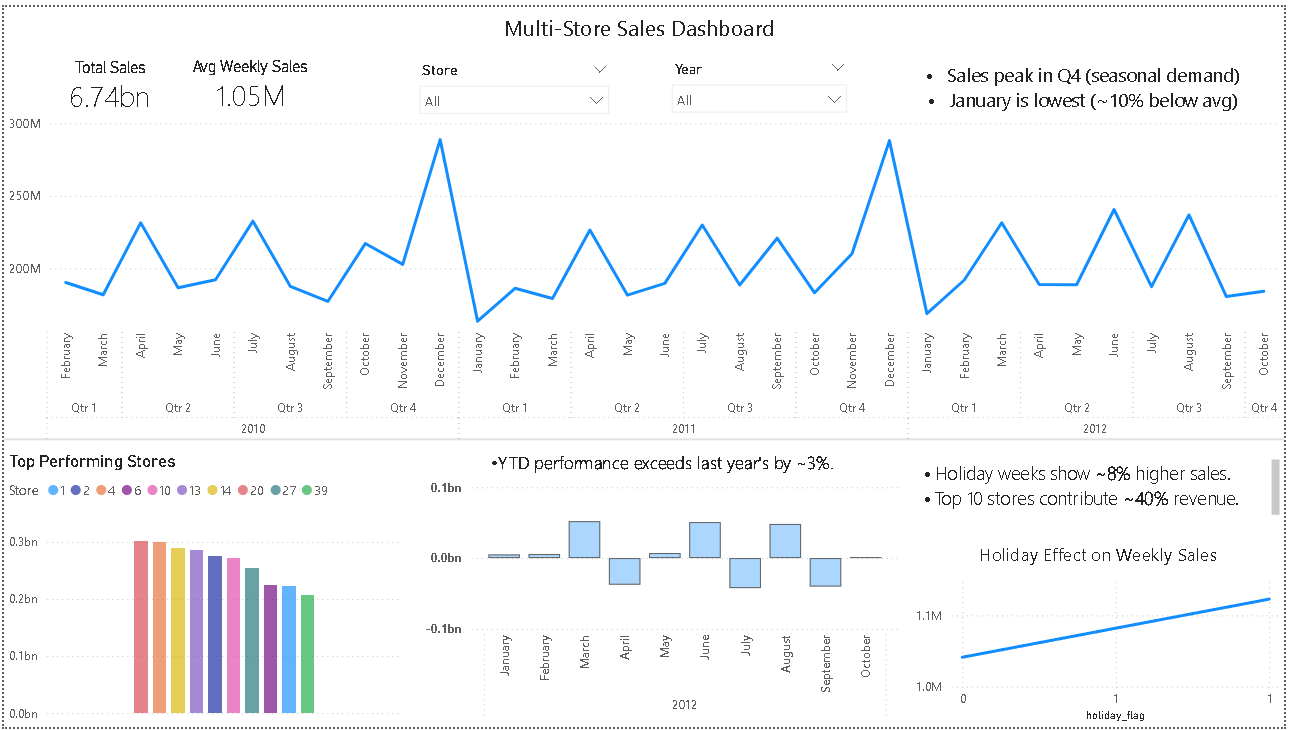

The page's visual inventory and layout, read from the dashboard file:
{"tool":"powerbi","page":{"name":"Page 1","canvas":[1280,720],"ordinal":0},"visuals":[{"type":"lineChart","title":"Monthly Sales Trends","fields":{"Category":["DateTable.Date"],"Y":["Sum(final_walmart.weekly_sales)"]},"box":[0,102.5,1280,341.2],"z":0},{"type":"slicer","fields":{"Values":["Stores.store"]},"box":[404.8,50.1,210.3,61.1],"z":1000},{"type":"clusteredColumnChart","title":"Top Performing Stores","fields":{"Y":["Sum(final_walmart.weekly_sales)"],"Series":["final_walmart.store"]},"box":[0,443.9,417,276.4],"z":2000},{"type":"slicer","fields":{"Values":["DateTable.Date.Variation.Date Hierarchy.Year"]},"box":[657.9,48.9,195.7,61.1],"z":3000},{"type":"card","title":"Total Sales","fields":{"Values":["Sum(final_walmart.weekly_sales)"]},"box":[34.5,50.5,142.8,60.3],"z":4000},{"type":"card","title":"Avg Weekly Sales","fields":{"Values":["Avg(final_walmart.weekly_sales)"]},"box":[161.4,48.9,171.2,61.1],"z":5000},{"type":"lineChart","title":"Holiday Effect on Weekly Sales","fields":{"Category":["final_walmart.holiday_flag"],"Y":["Avg(final_walmart.weekly_sales)"]},"box":[907.3,535.6,373,184.6],"z":6000},{"type":"textbox","box":[870.7,50.1,409.6,61.1],"z":7000},{"type":"textbox","box":[898.8,443.9,381.5,83.2],"z":8000},{"type":"textbox","box":[347.3,0,576,50.1],"z":9000},{"type":"lineClusteredColumnComboChart","title":"•YTD performance exceeds last year''s by ~3%. ","fields":{"Category":["DateTable.Date.Variation.Date Hierarchy.Year","DateTable.Date.Variation.Date Hierarchy.Month"],"Y":["final_walmart.YoY %"]},"box":[417,442.7,481.8,277.6],"z":10000},{"type":"shape","box":[0,282.5,1280.3,299.6],"z":11000}]}

Visuals, with their boxes in screenshot pixels (x1, y1, x2, y2), scaled from the page's 1280x720 canvas onto the 1290x730 screenshot:
"Monthly Sales Trends" lineChart: [0, 104, 1289, 450]
slicer - Stores.store: [408, 51, 620, 113]
"Top Performing Stores" clusteredColumnChart: [0, 450, 420, 729]
slicer - DateTable.Date.Variation.Date Hierarchy.Year: [663, 50, 860, 112]
"Total Sales" card: [35, 51, 179, 112]
"Avg Weekly Sales" card: [163, 50, 335, 112]
"Holiday Effect on Weekly Sales" lineChart: [914, 543, 1289, 729]
textbox: [878, 51, 1289, 113]
textbox: [906, 450, 1289, 534]
textbox: [350, 0, 931, 51]
"•YTD performance exceeds last year''s by ~3%. " lineClusteredColumnComboChart: [420, 449, 906, 729]
shape: [0, 286, 1289, 590]
